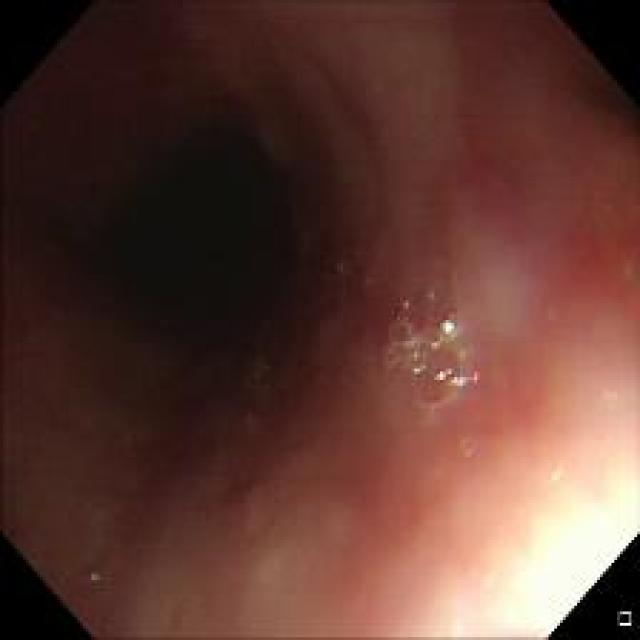bubbles: (386, 278, 479, 409), (80, 562, 102, 595)
color misalignment: (396, 296, 426, 372), (425, 300, 462, 349), (434, 365, 480, 389), (86, 571, 101, 590)
contrast: (72, 89, 381, 426)
saturation: (492, 525, 630, 631)
specularity: (432, 371, 479, 389), (440, 319, 454, 336)
